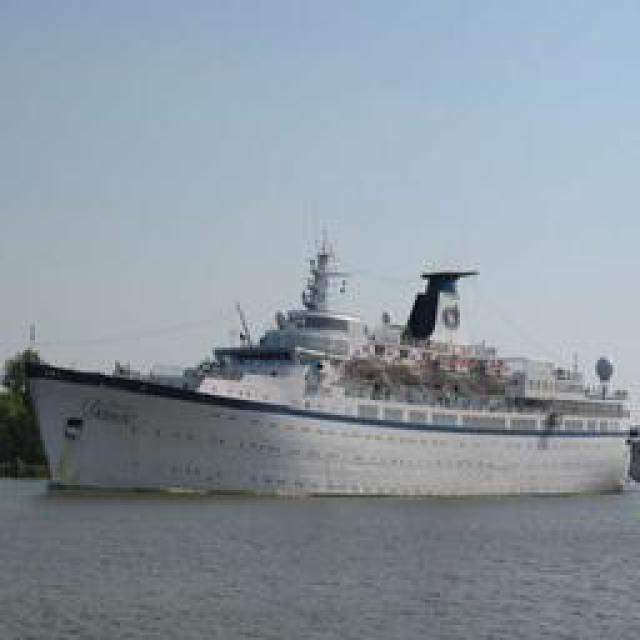Ship: (25, 227, 630, 497)
